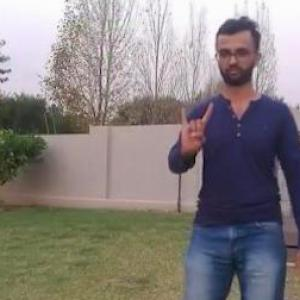takeoff-hand: (173, 96, 219, 164)
